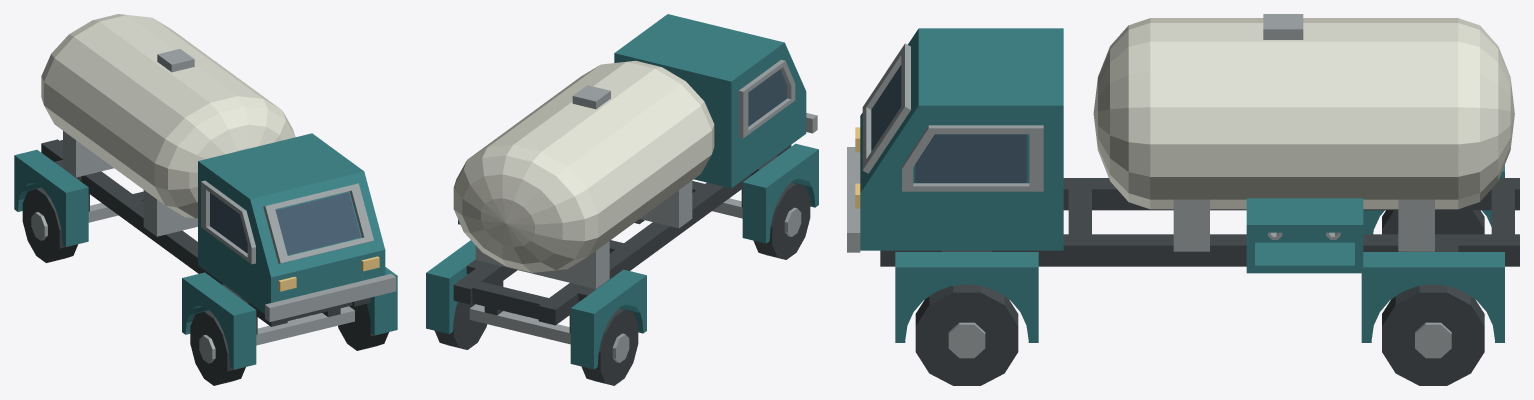
The picture shows the model from 3 angles, left to right: view 1: azimuth 30°, elevation 25°; view 2: azimuth 150°, elevation 25°; view 3: azimuth 270°, elevation 25°; orthographic projection. The views are drawn at different scales.
Visible parts, largest first — view 1: ContinuousRoundedEndTank, OriginalShortCab, Arch_1_0, Arch_0_0, FrontWindshield_RecessedPane, Rail_0, FrontBumper, FrontWindshield_ThickFrame, Wheel_0_0, Wheel_1_0, FixedAxle_0, LeftCabWindow_ThickFrame (+9 smaller); view 2: ContinuousRoundedEndTank, OriginalShortCab, Rail_0, Arch_1_0, Arch_0_0, Arch_1_1, Wheel_0_0, Wheel_1_0, CurvedSaddle_1, CrossTie_3, FixedAxle_1, LeftCabWindow_ThickFrame (+8 smaller); view 3: ContinuousRoundedEndTank, OriginalShortCab, RecessedServiceCabinet, Rail_1, Wheel_0_1, Wheel_1_1, Arch_0_1, Arch_1_1, RightCabWindow_RecessedPane, RightCabWindow_ThickFrame, Rail_0, FrontWindshield_ThickFrame (+10 smaller).
Boxes of the visible parts, box(x1,y1,x2,y2) form: ContinuousRoundedEndTank: box(41, 14, 295, 218); OriginalShortCab: box(198, 133, 385, 313); Arch_1_0: box(14, 149, 88, 246); Arch_0_0: box(182, 272, 256, 369); FrontWindshield_RecessedPane: box(275, 192, 360, 255); Rail_0: box(41, 139, 287, 326); FrontBumper: box(265, 273, 396, 321); FrontWindshield_ThickFrame: box(263, 183, 373, 263); Wheel_0_0: box(190, 310, 245, 385); Wheel_1_0: box(22, 187, 77, 262); FixedAxle_0: box(256, 306, 354, 345); LeftCabWindow_ThickFrame: box(201, 180, 255, 264); ContinuousRoundedEndTank: box(453, 60, 714, 272); OriginalShortCab: box(614, 14, 806, 188); Rail_0: box(538, 145, 791, 325); Arch_1_0: box(570, 269, 646, 369); Arch_0_0: box(742, 143, 818, 243); Arch_1_1: box(426, 240, 475, 334); Wheel_0_0: box(753, 182, 810, 259); Wheel_1_0: box(581, 308, 638, 385); CurvedSaddle_1: box(475, 241, 609, 288); CrossTie_3: box(472, 281, 548, 319); FixedAxle_1: box(469, 304, 570, 344); LeftCabWindow_ThickFrame: box(738, 59, 795, 138); ContinuousRoundedEndTank: box(1093, 18, 1514, 209); OriginalShortCab: box(860, 28, 1063, 250); RecessedServiceCabinet: box(1246, 198, 1363, 273); Rail_1: box(880, 234, 1519, 266); Wheel_0_1: box(915, 284, 1018, 385); Wheel_1_1: box(1382, 284, 1484, 385); Arch_0_1: box(895, 252, 1038, 342); Arch_1_1: box(1361, 252, 1504, 342); RightCabWindow_RecessedPane: box(915, 134, 1026, 182); RightCabWindow_ThickFrame: box(902, 125, 1043, 191); Rail_0: box(1063, 178, 1519, 210); FrontWindshield_ThickFrame: box(862, 43, 910, 173).
Size of the model in its own units: 1.79 by 2.05 by 4.04.
